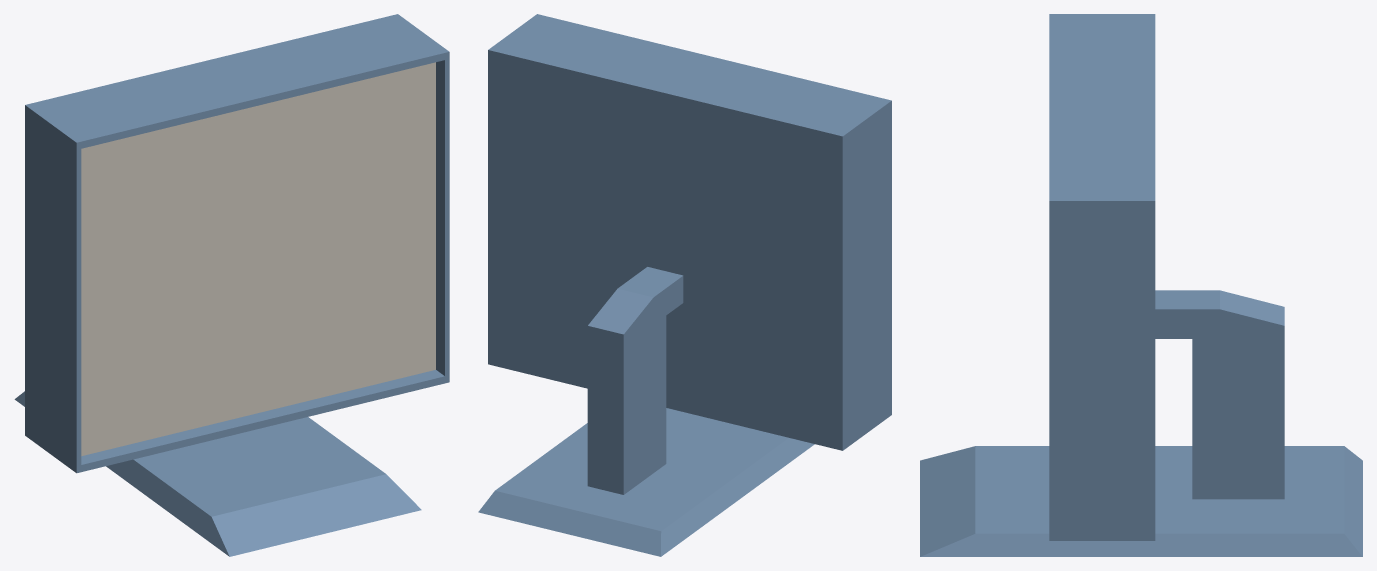
File: television-modern.glb
3 renders of one model, left to right at view 1: azimuth 30°, elevation 25°; view 2: azimuth 150°, elevation 25°; view 3: azimuth 270°, elevation 25°, orthographic. The views are drawn at different scales.
Bounding box in the file's own units: 1 × 1 × 1.
